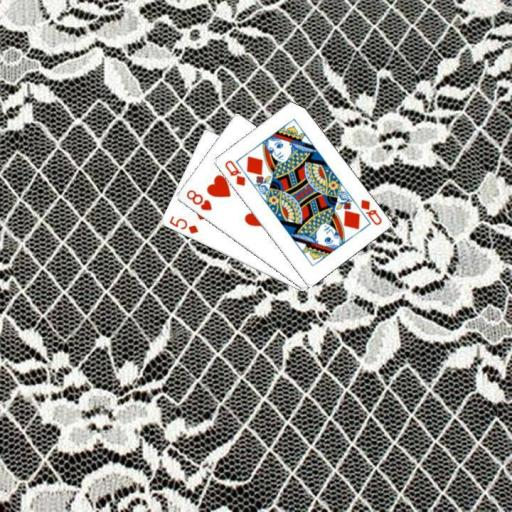card-corner: (166, 212, 200, 236), (221, 157, 247, 188), (357, 196, 383, 227), (183, 186, 213, 212)
